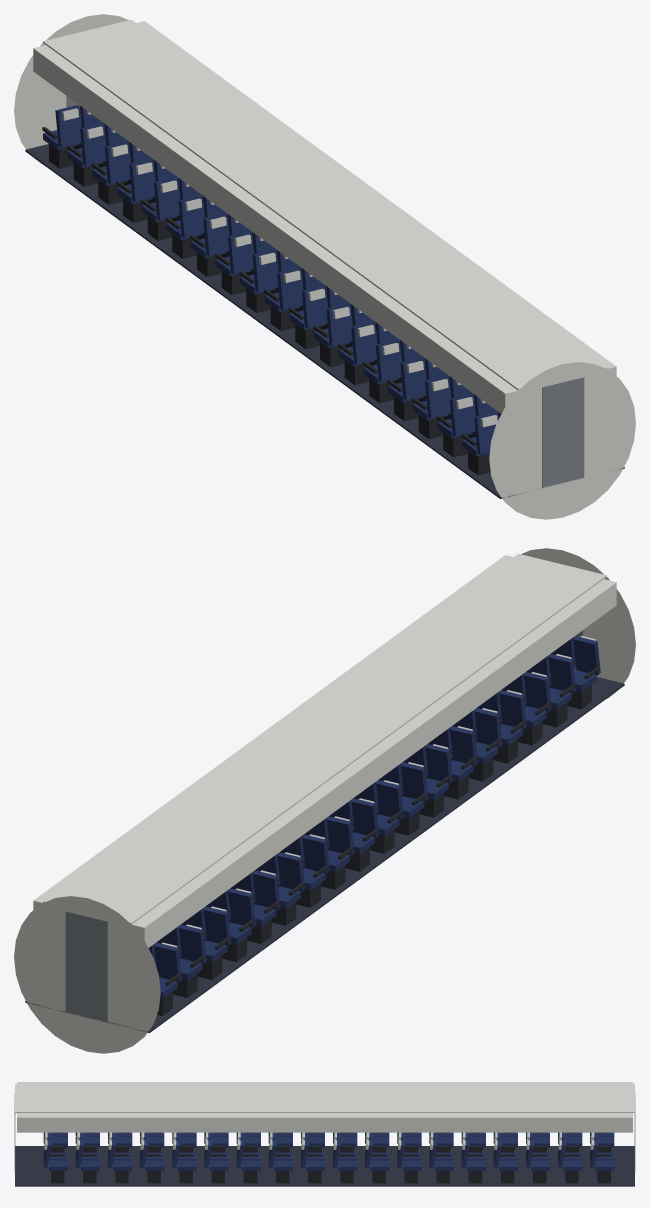
Rendered from lat_turboprop_cabin.dae.
3 views of the same model, one above another, from view 1: azimuth 30°, elevation 25°; view 2: azimuth 150°, elevation 25°; view 3: azimuth 270°, elevation 25° (orthographic). The views are drawn at different scales.
Parts seen in each view (by area): view 1: lat_turboprop_cabin64; view 2: lat_turboprop_cabin64; view 3: lat_turboprop_cabin64.
Part boxes in pixels (x1=…): lat_turboprop_cabin64: x1=14, y1=14, x2=635, y2=519; lat_turboprop_cabin64: x1=14, y1=548, x2=635, y2=1053; lat_turboprop_cabin64: x1=14, y1=1082, x2=635, y2=1186.
Size of the model in its own units: 2.79 by 15.67 by 2.79.
